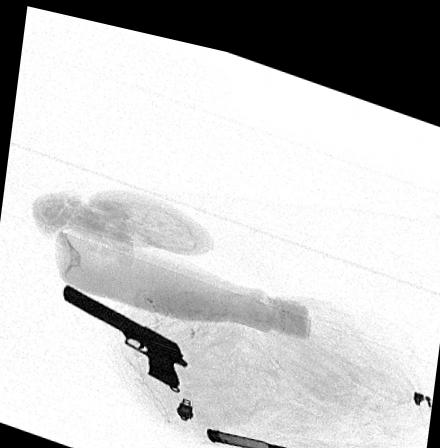Bullet: (204, 418, 313, 442)
Gun: (60, 280, 184, 379)
